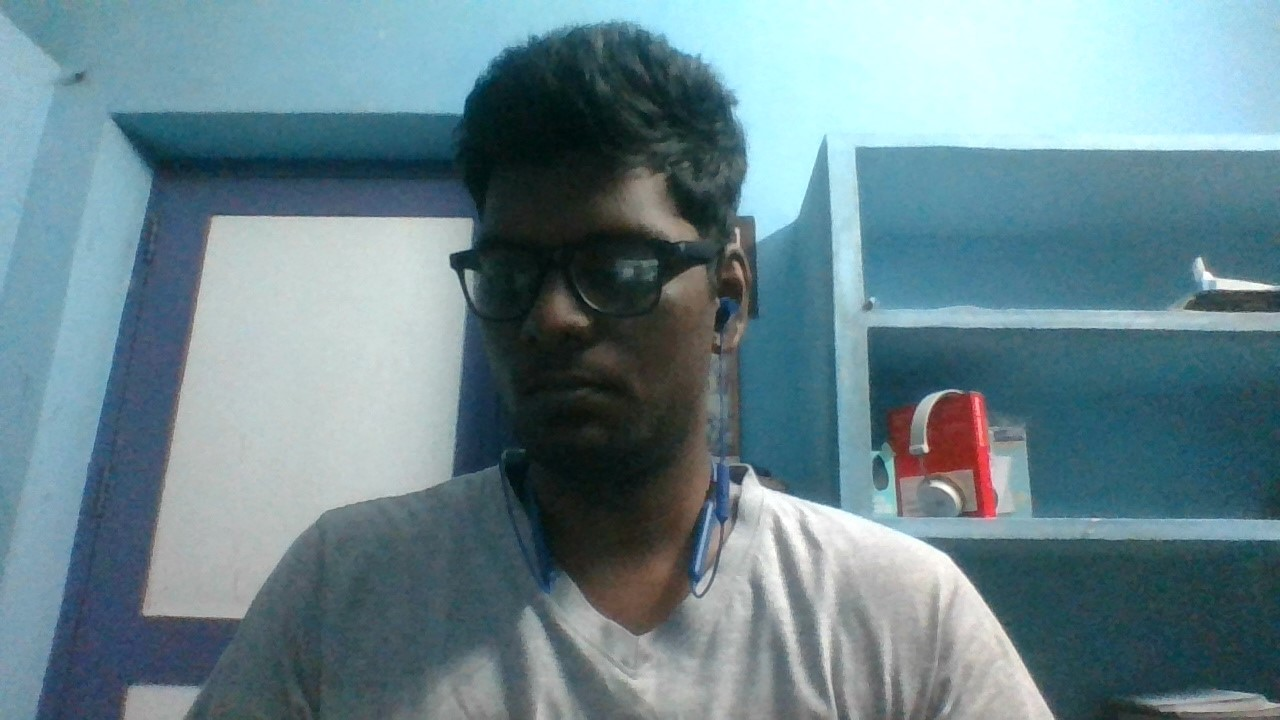person: (179, 11, 1051, 720)
